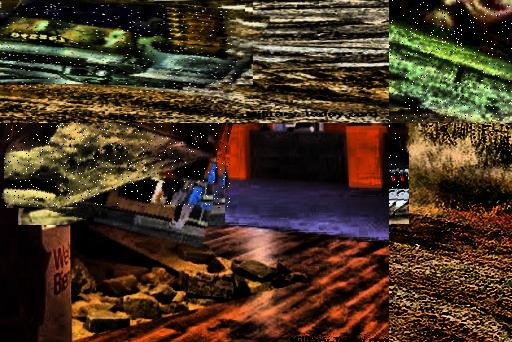tanks: (1, 4, 240, 93), (5, 124, 229, 209), (390, 1, 512, 124), (390, 124, 403, 199)
